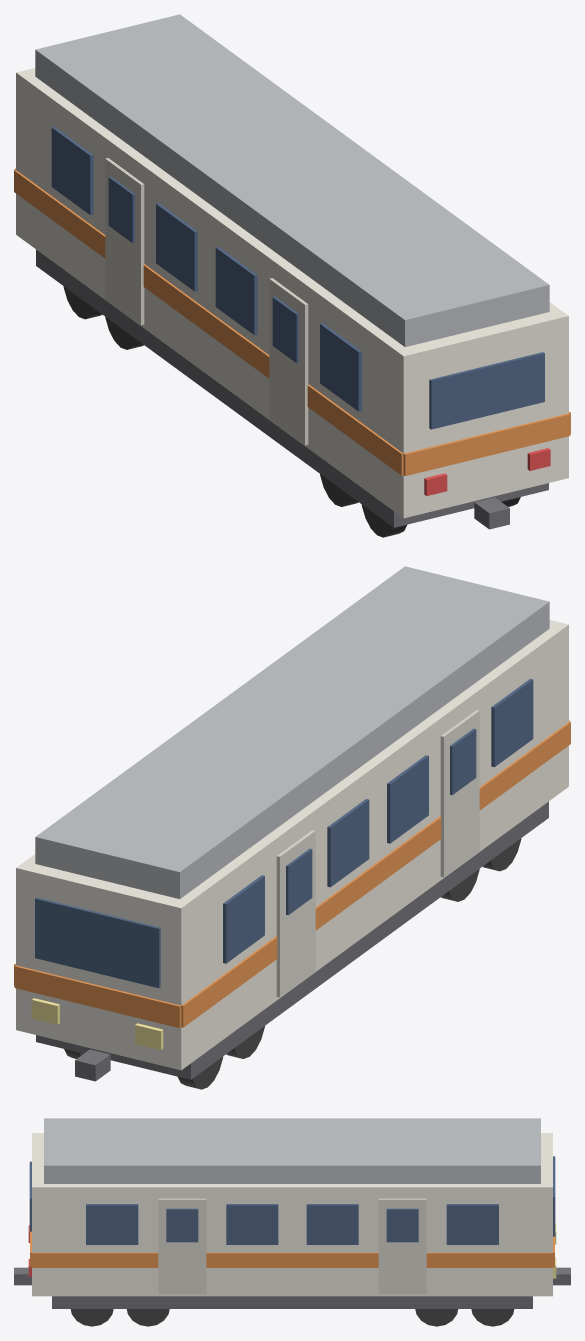
Rendered from train.glb.
3 views of the same model, one above another, from view 1: azimuth 30°, elevation 25°; view 2: azimuth 150°, elevation 25°; view 3: azimuth 270°, elevation 25° (orthographic). The views are drawn at different scales.
Visible parts, largest first — view 1: Train; view 2: Train; view 3: Train.
Boxes of the visible parts, x1,y1,x2,y2 form: Train: (14, 14, 570, 537); Train: (14, 566, 570, 1089); Train: (14, 1118, 570, 1326).
Bounding box in the file's own units: 0.348 × 0.45 × 1.39.
